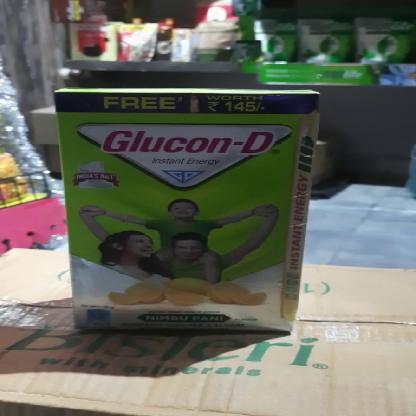Glucon D Nimbu Pani 1-KG: (70, 94, 300, 336)
